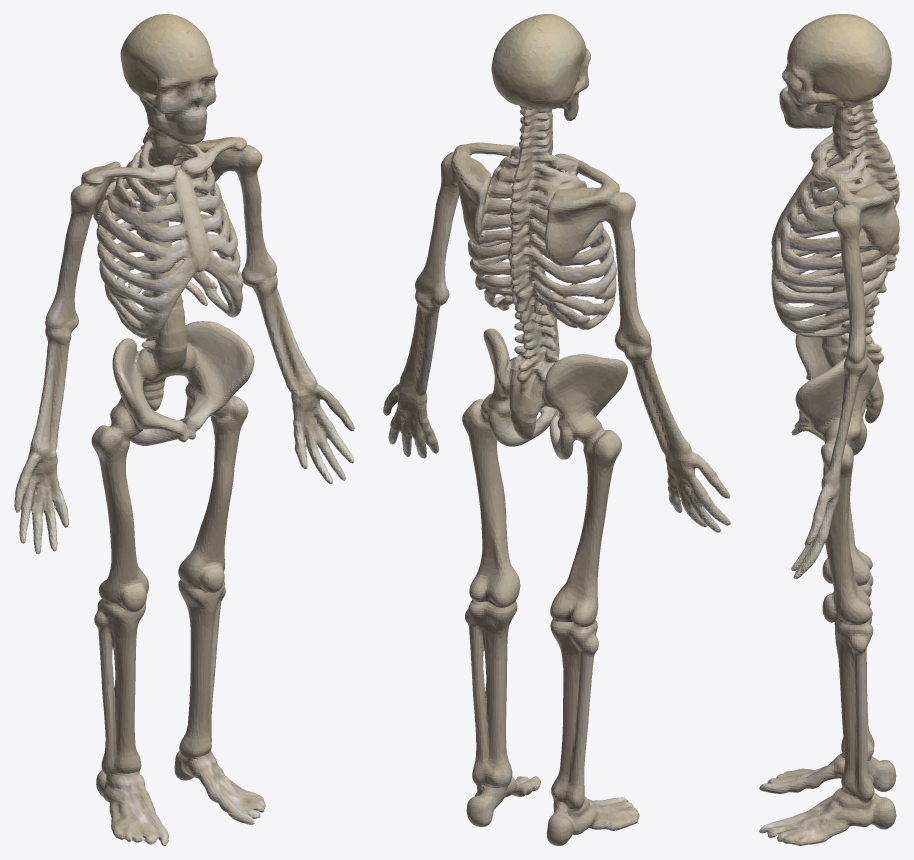
The model's file is skeleton.glb.
3 renders of one model, left to right at view 1: azimuth 30°, elevation 25°; view 2: azimuth 150°, elevation 25°; view 3: azimuth 270°, elevation 25°, orthographic.
Parts seen in each view (by area): view 1: world; view 2: world; view 3: world.
Boxes of the visible parts, box(x1,y1,x2,y2) form: world: box(14, 14, 354, 845); world: box(383, 14, 730, 845); world: box(759, 14, 899, 845).
Size of the model in its own units: 0.8977 by 1.99 by 0.3194.
1 material, 1 textured.
